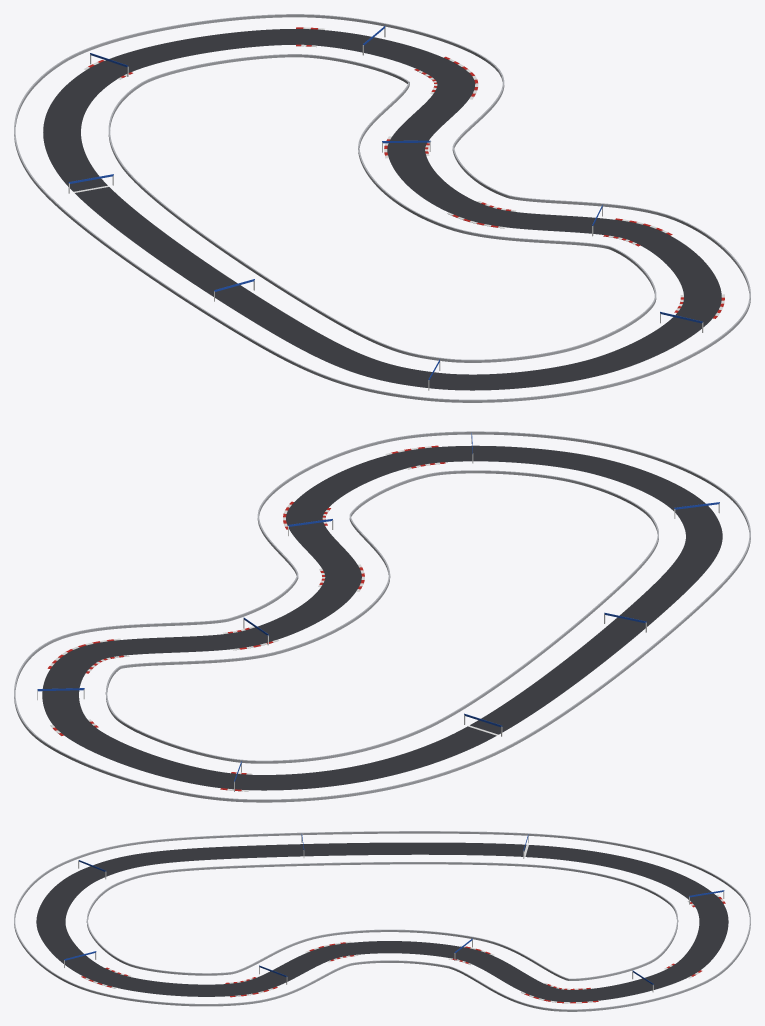
File: track.glb
3 renders of one model, top to bottom at view 1: azimuth 30°, elevation 25°; view 2: azimuth 150°, elevation 25°; view 3: azimuth 270°, elevation 25°, orthographic. The views are drawn at different scales.
Parts seen in each view (by area): view 1: road, barriers, curbs; view 2: road, barriers, curbs; view 3: road, barriers, curbs.
Part boxes in pixels (bbox=[...]): road: bbox=[43, 29, 721, 390]; barriers: bbox=[14, 14, 750, 402]; curbs: bbox=[84, 27, 724, 318]; road: bbox=[42, 445, 722, 790]; barriers: bbox=[14, 431, 750, 802]; curbs: bbox=[47, 445, 445, 791]; road: bbox=[36, 842, 728, 1002]; barriers: bbox=[14, 831, 750, 1011]; curbs: bbox=[81, 894, 725, 1003].
Size of what is drawn, in the model's own units: 174 by 3.95 by 304.
